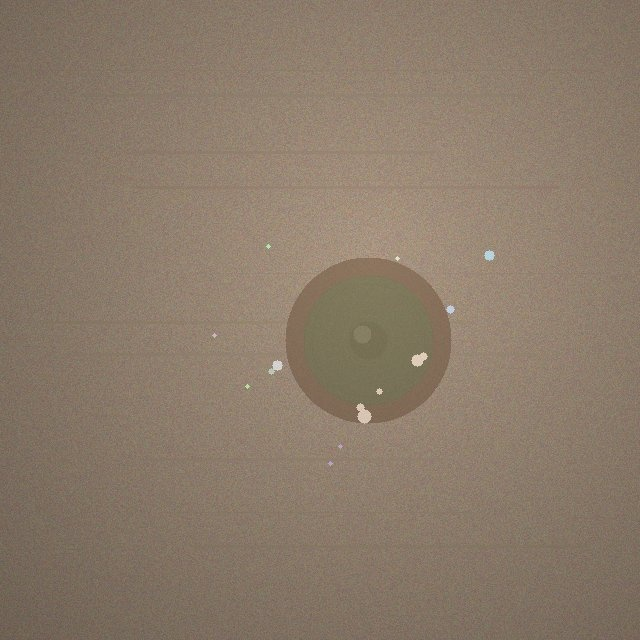overburn: (285, 257, 451, 423)
